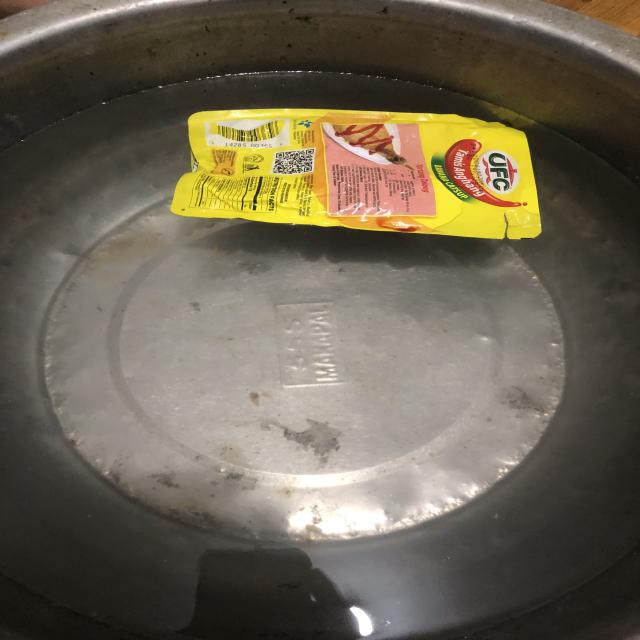Plastic Pouch: (155, 75, 565, 266)
